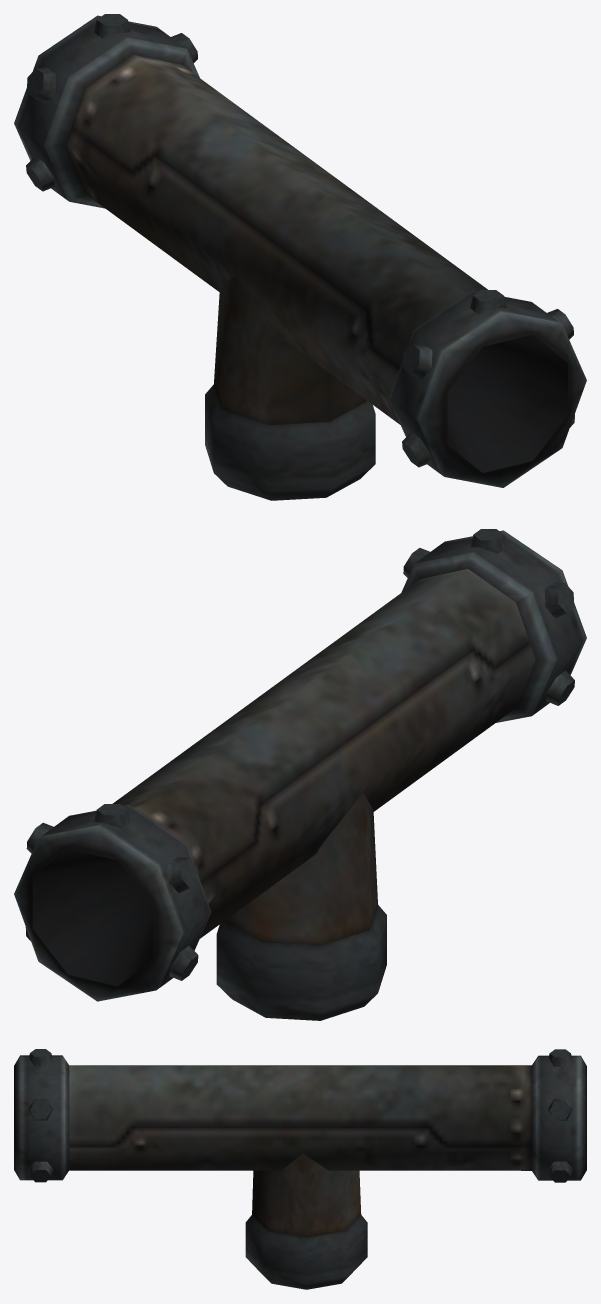
Rendered from SM_EN_1002_guandao10.FBX.
3 renders of one model, top to bottom at view 1: azimuth 30°, elevation 25°; view 2: azimuth 150°, elevation 25°; view 3: azimuth 270°, elevation 25°, orthographic. The views are drawn at different scales.
Parts seen in each view (by area): view 1: SM_EN_1002_guandao10; view 2: SM_EN_1002_guandao10; view 3: SM_EN_1002_guandao10.
Part boxes in pixels (<box>): SM_EN_1002_guandao10: <box>14,14,586,500</box>; SM_EN_1002_guandao10: <box>14,529,586,1020</box>; SM_EN_1002_guandao10: <box>14,1049,586,1289</box>.
Bounding box in the file's own units: 18.63 × 33.47 × 79.92.
